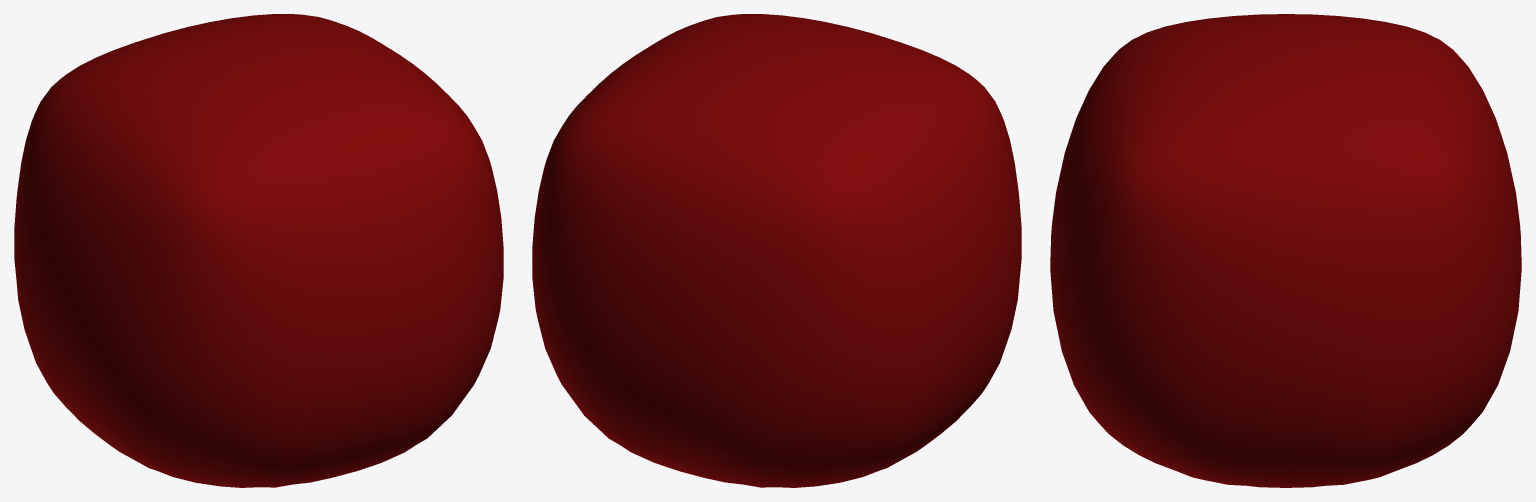
File: Pouf2_8.fbx
3 views of the same model, side by side, from view 1: azimuth 30°, elevation 25°; view 2: azimuth 150°, elevation 25°; view 3: azimuth 270°, elevation 25° (orthographic).
Parts seen in each view (by area): view 1: pCube2900; view 2: pCube2900; view 3: pCube2900.
Part boxes in pixels (bbox=[...]): pCube2900: bbox=[14, 14, 503, 487]; pCube2900: bbox=[532, 14, 1021, 487]; pCube2900: bbox=[1050, 14, 1521, 487].
Size of the model in its own units: 32.68 by 31.09 by 32.67.
